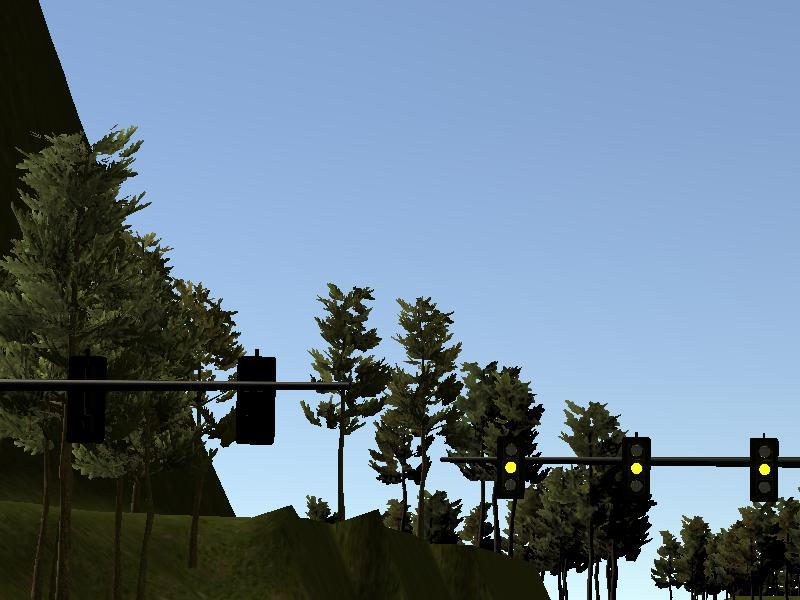Yellow: (622, 437, 650, 500), (497, 436, 525, 498), (751, 439, 778, 501)
